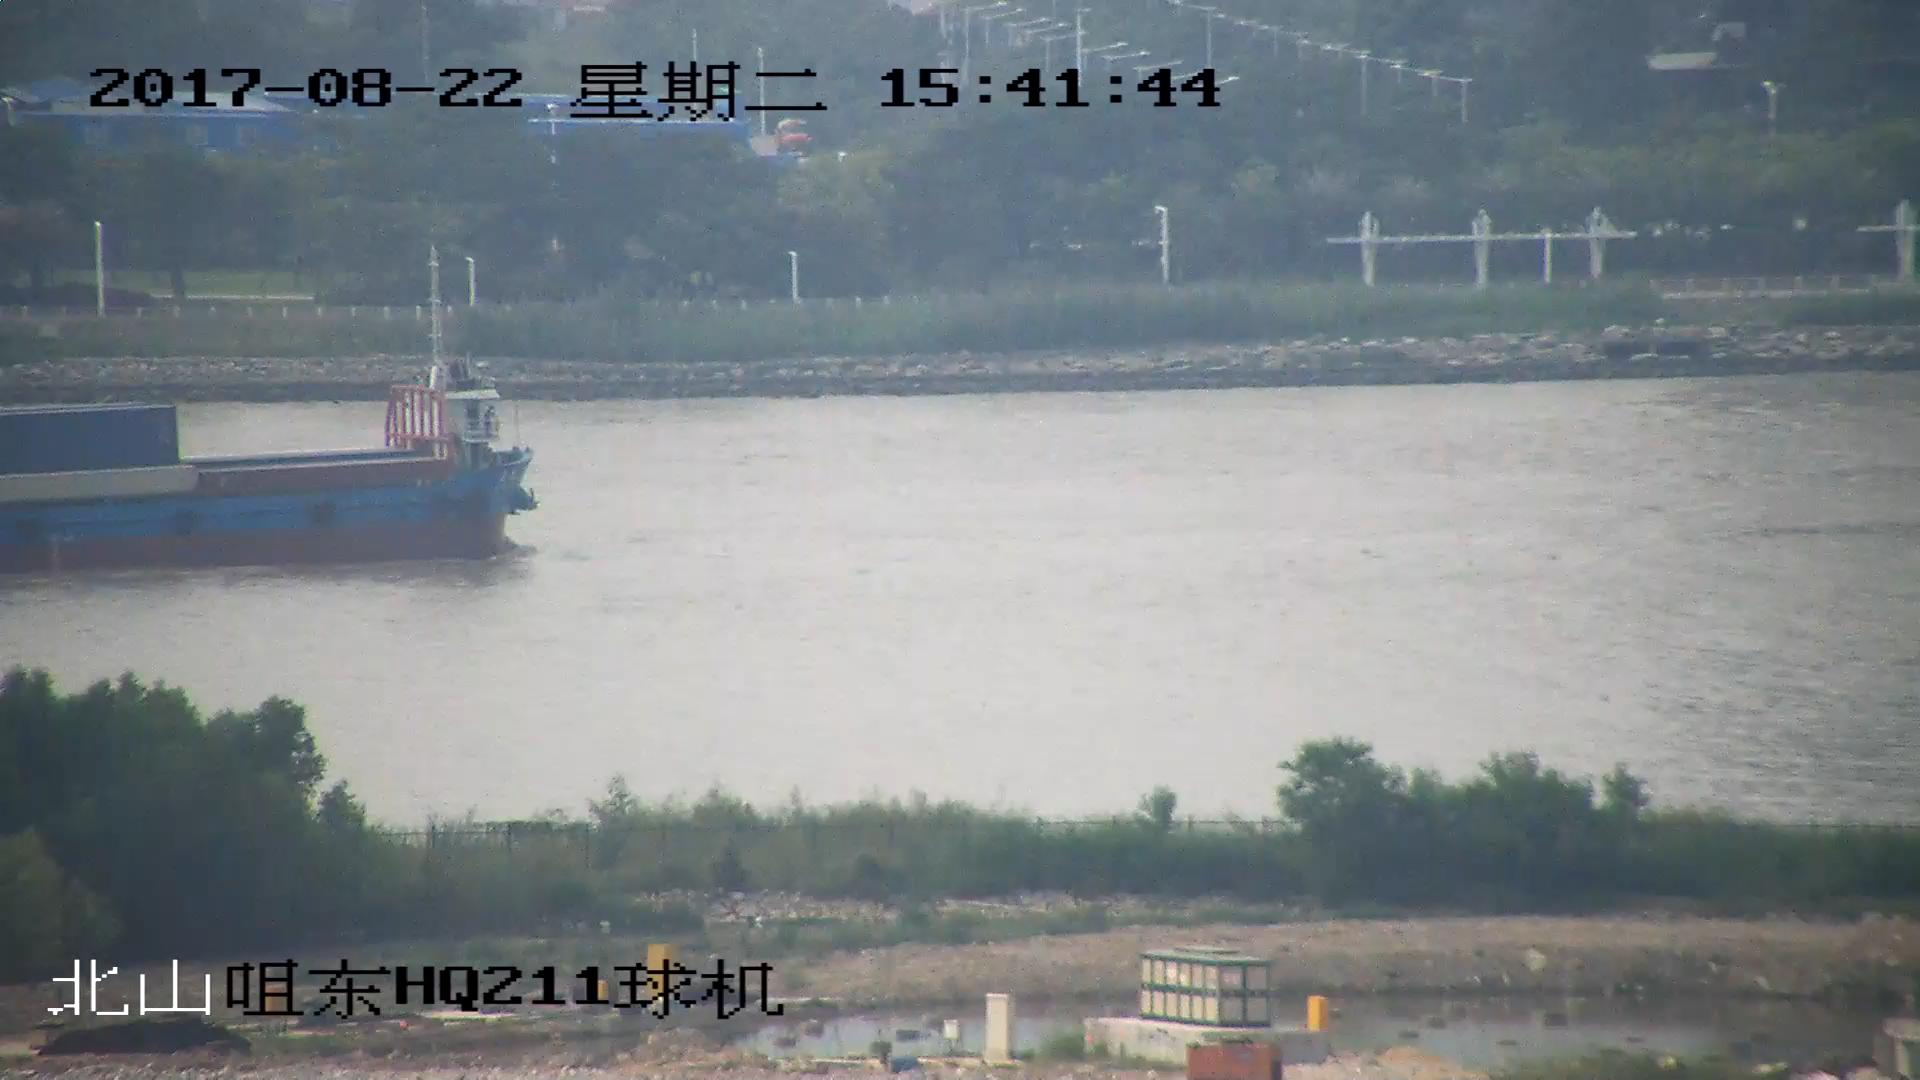container ship: (1, 244, 546, 564)
